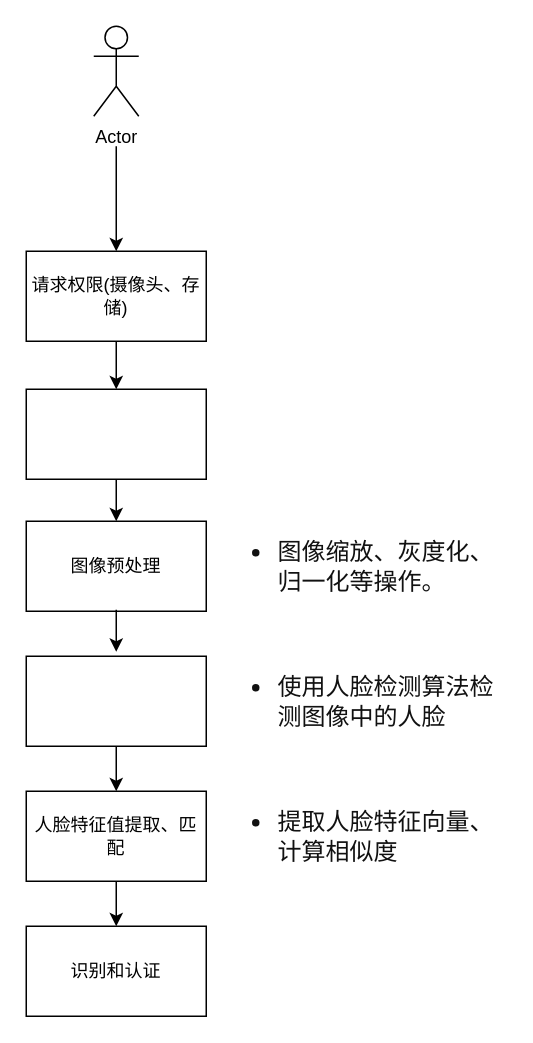
This 533x1043 diagram has some shape labels left out. Here are the shapes that lost their labels. From the top down, the centre of each, then its label:
(x=115, y=433): 捕获图像
(x=115, y=700): 人脸检测
